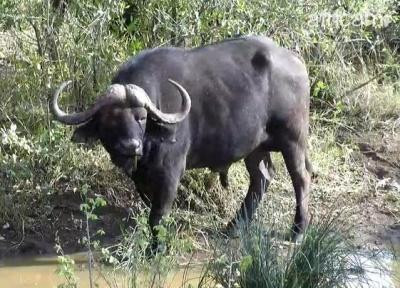buffalo: (50, 35, 314, 244)
